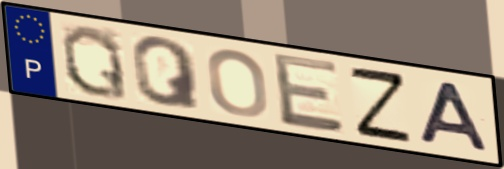A: (416, 79, 492, 155)
E: (269, 50, 348, 135)
O: (204, 47, 271, 119)
Q: (128, 35, 204, 113), (58, 23, 131, 103)
Z: (346, 64, 415, 144)
